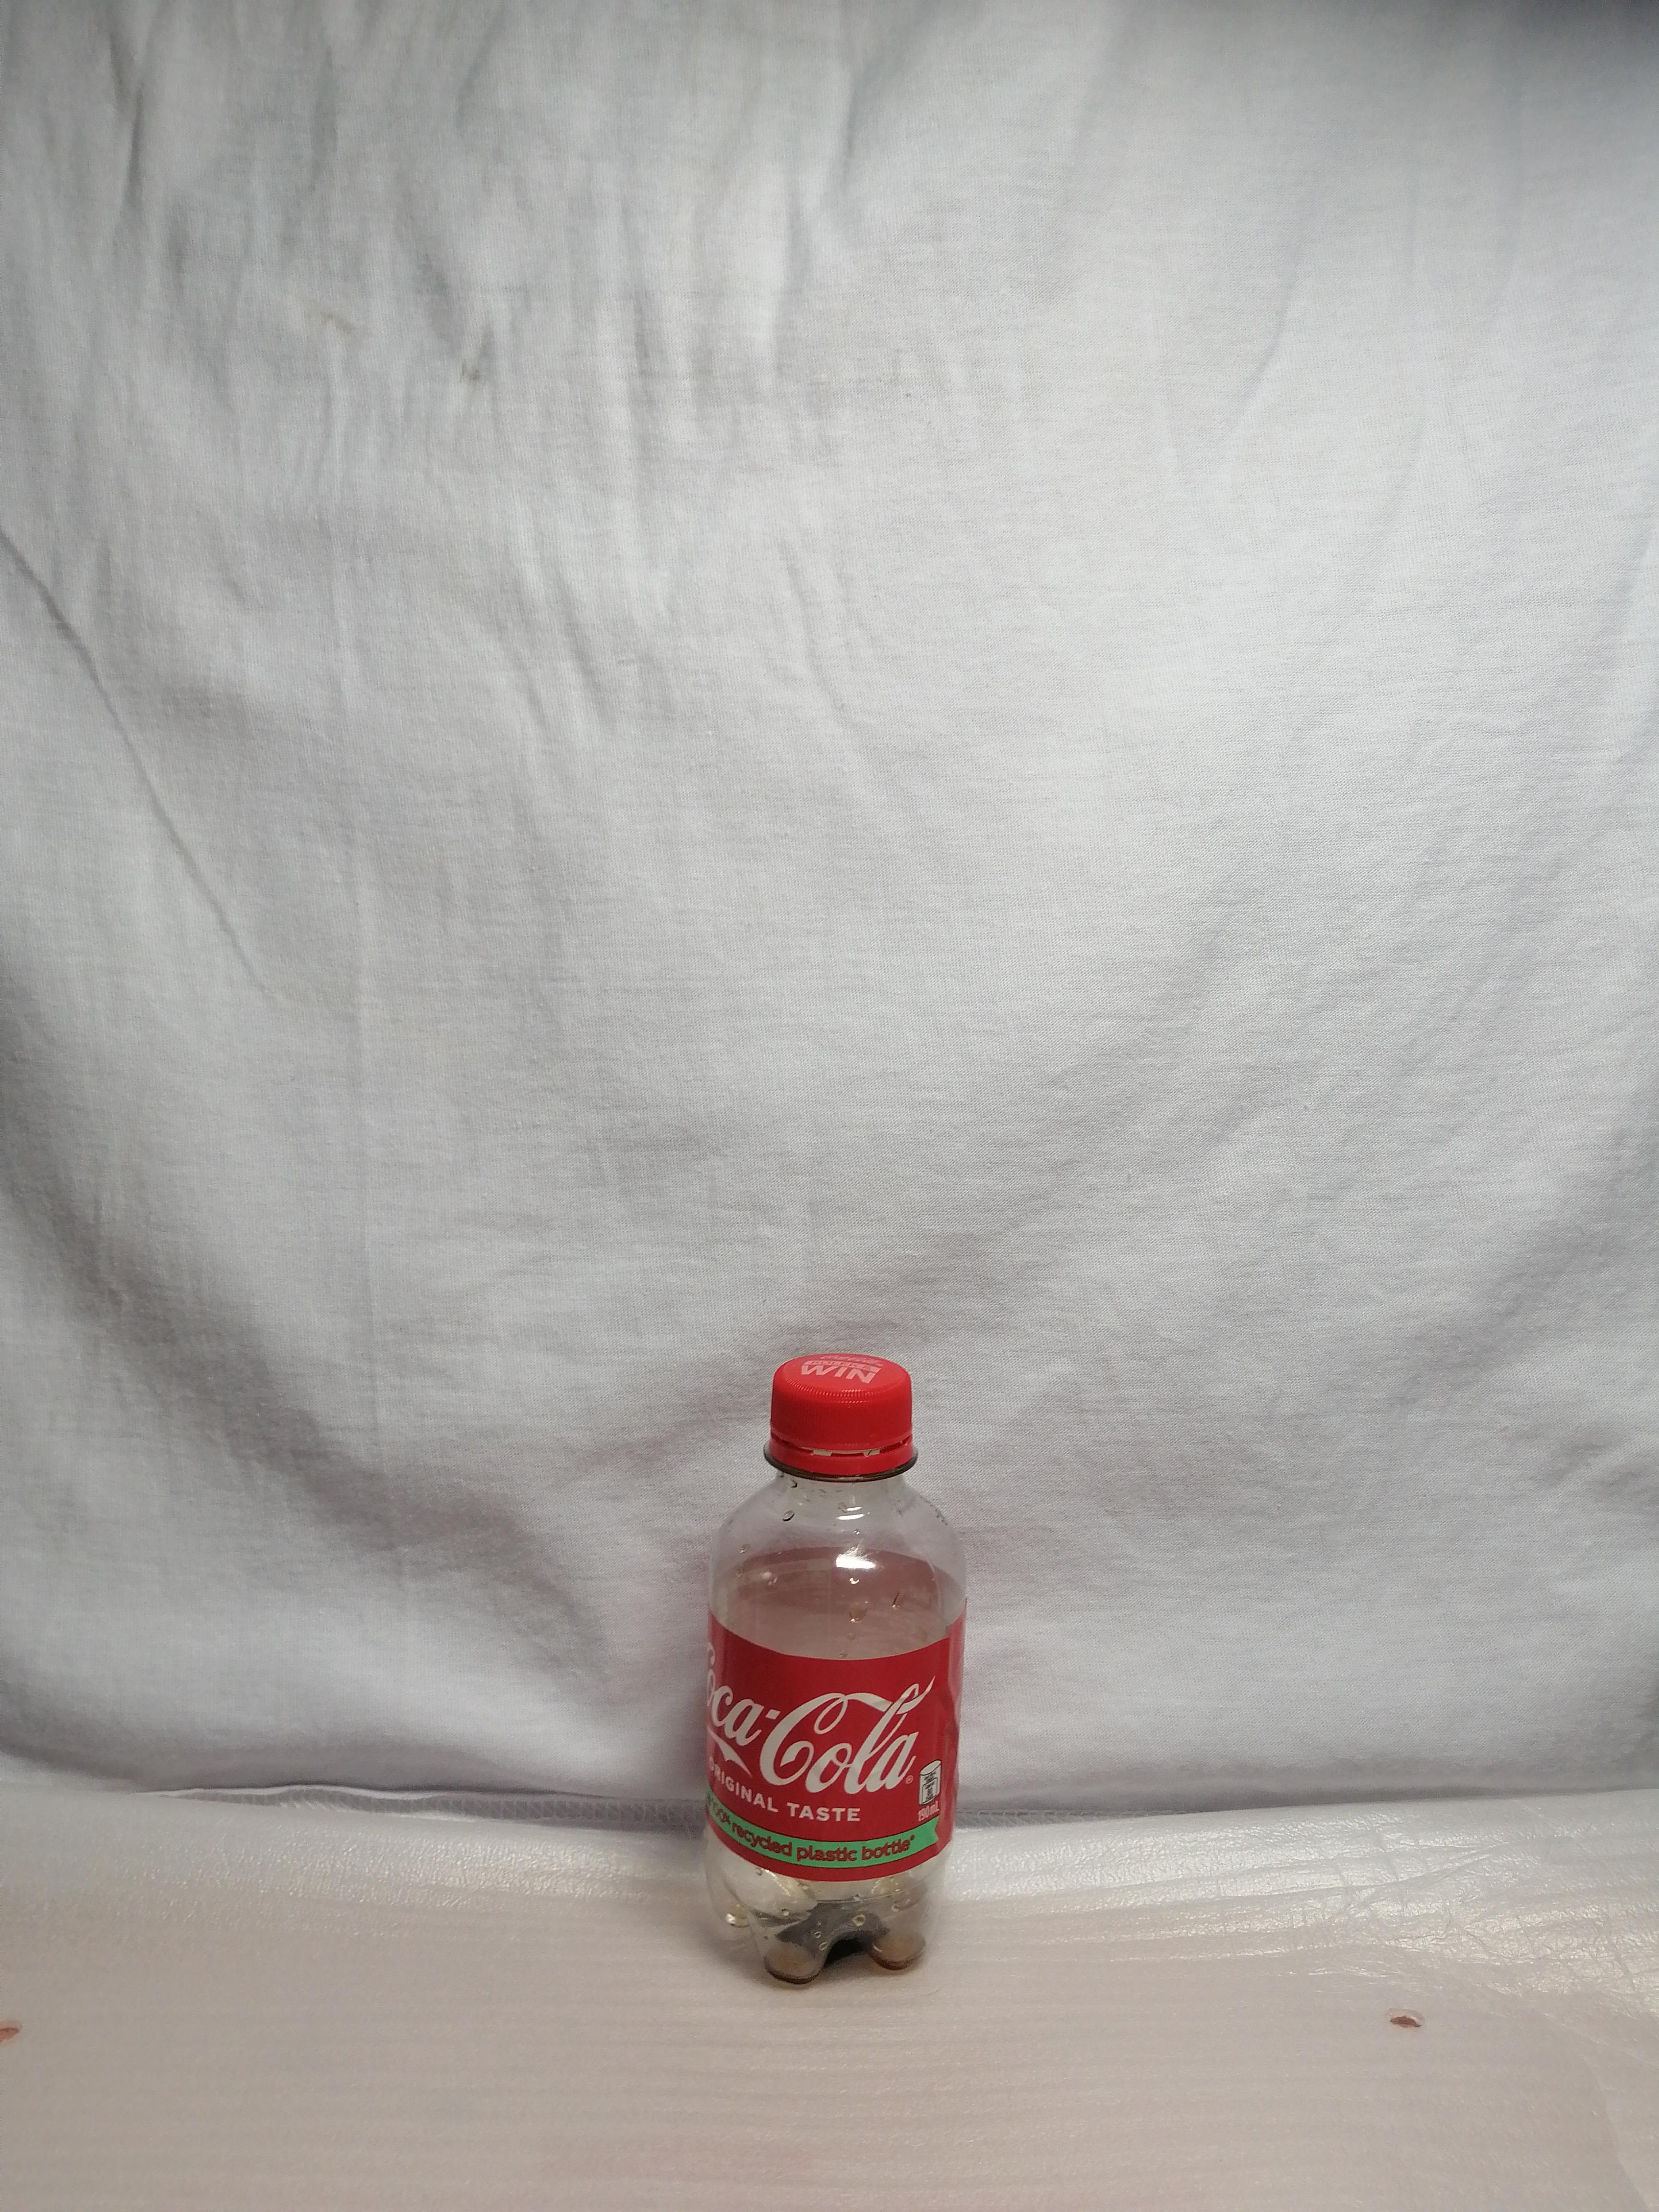plastic-bottle: (648, 1339, 1003, 2045)
